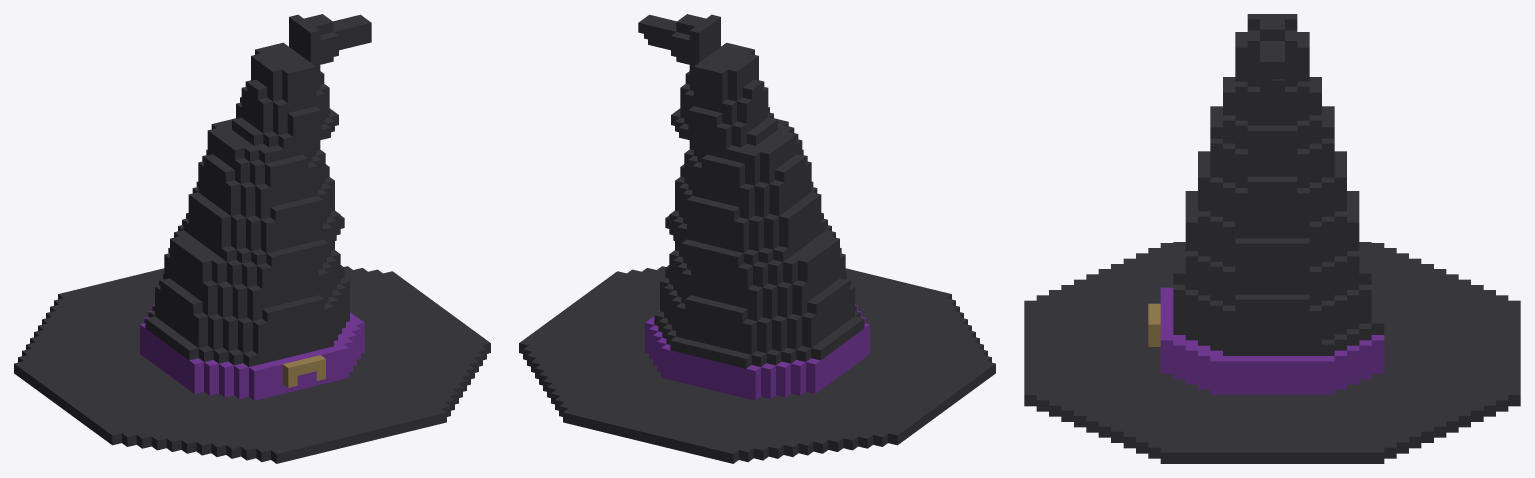
Rendered from pointed_hat.glb.
The picture shows the model from 3 angles, left to right: view 1: azimuth 30°, elevation 25°; view 2: azimuth 150°, elevation 25°; view 3: azimuth 270°, elevation 25°; orthographic projection. The views are drawn at different scales.
Parts seen in each view (by area): view 1: pointed_hat:compound; view 2: pointed_hat:compound; view 3: pointed_hat:compound.
Boxes of the visible parts, x1=… form: pointed_hat:compound: x1=14, y1=14, x2=490, y2=463; pointed_hat:compound: x1=519, y1=14, x2=995, y2=463; pointed_hat:compound: x1=1024, y1=14, x2=1520, y2=463.
Bounding box in the file's own units: 0.4 × 0.33 × 0.4.
